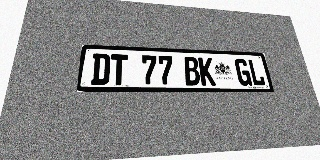7: (141, 55, 158, 85), (157, 56, 174, 85)
B: (183, 57, 201, 85)
D: (91, 53, 110, 85)
G: (234, 58, 253, 86)
K: (198, 57, 216, 86)
L: (247, 59, 266, 86)
T: (110, 54, 128, 85)
